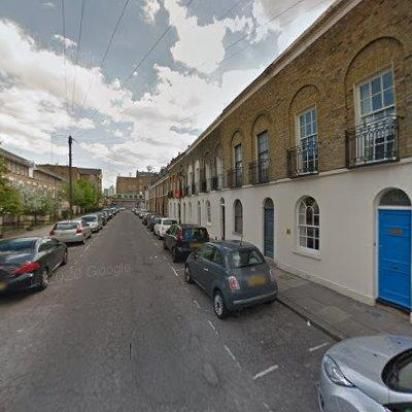stationary-car-onstreet: (181, 238, 283, 320), (316, 330, 412, 412), (0, 236, 70, 296), (162, 222, 210, 264), (48, 219, 90, 244), (78, 214, 102, 234), (148, 214, 164, 232), (142, 211, 156, 225), (94, 211, 106, 225), (102, 208, 112, 220), (138, 209, 146, 219)
stationary-light-truck-onstreet: (154, 217, 178, 238)
